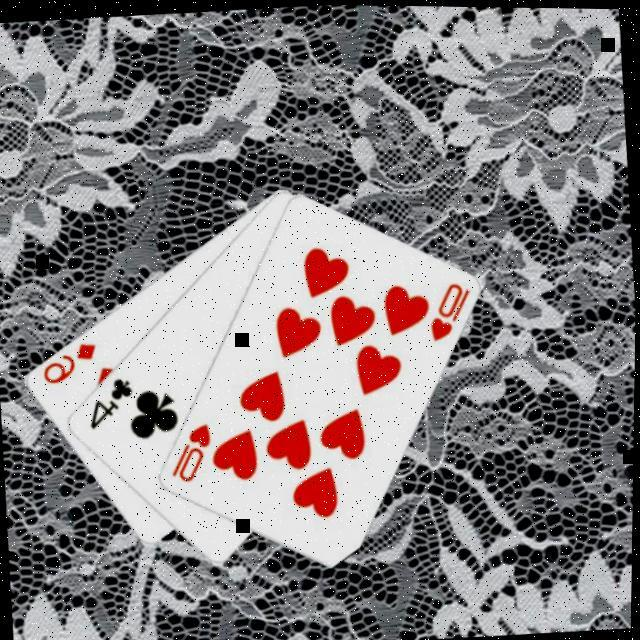10H: (166, 416, 218, 484), (424, 274, 476, 342)
4C: (83, 371, 140, 432)
9D: (38, 334, 102, 386)
